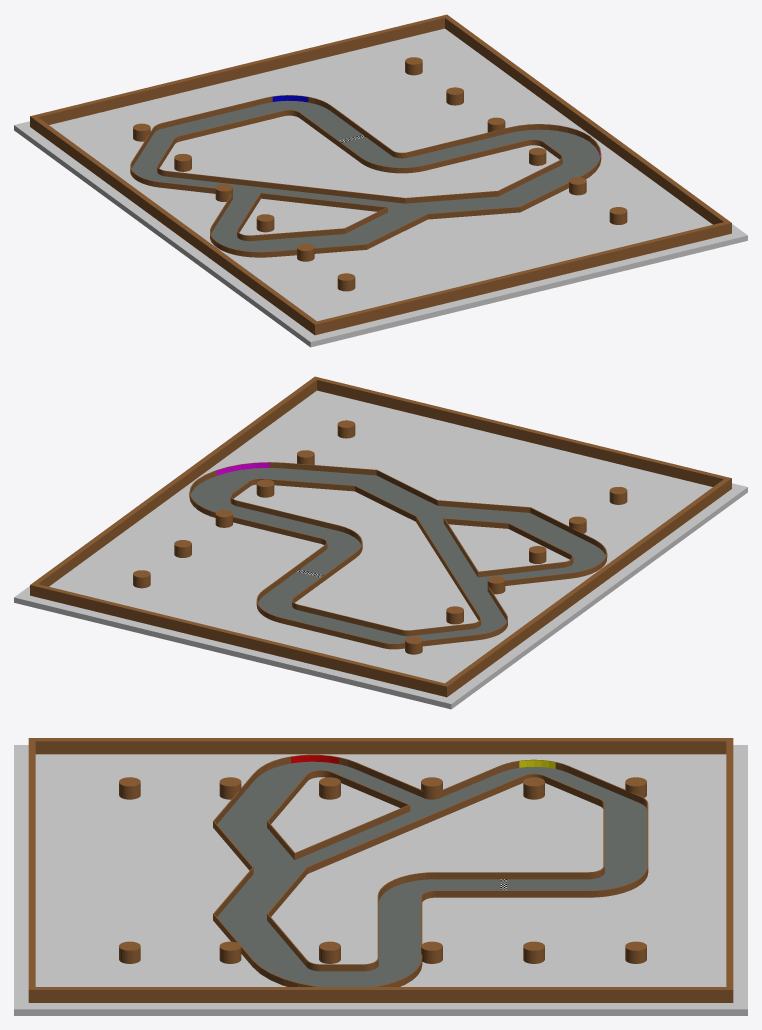
File: walker_racecourse.dae
3 views of the same model, one above another, from view 1: azimuth 30°, elevation 25°; view 2: azimuth 150°, elevation 25°; view 3: azimuth 270°, elevation 25° (orthographic). The views are drawn at different scales.
Visible parts, largest first — view 1: walker_track; view 2: walker_track; view 3: walker_track.
Part boxes in pixels (box(x1,y1,x2,y2)): walker_track: box(14, 14, 747, 347); walker_track: box(14, 376, 747, 709); walker_track: box(14, 738, 747, 1015).
Size of the model in its own units: 30.81 by 36.18 by 1.07.
